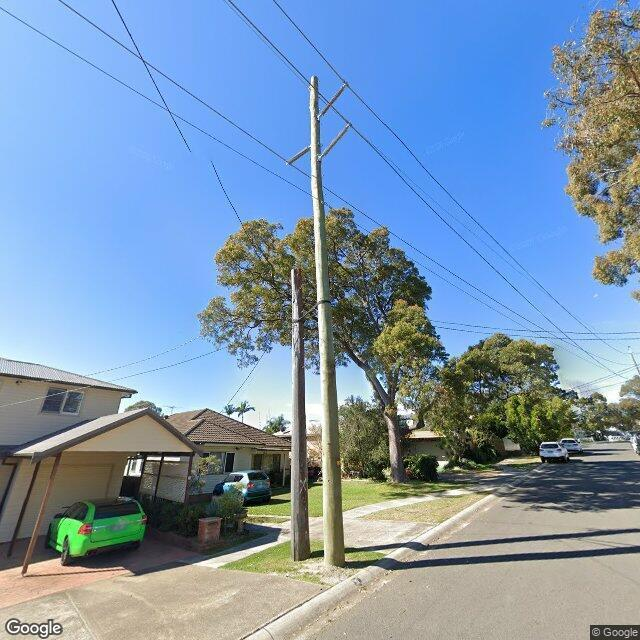HV-transmission: (286, 81, 352, 165)
timber-pole: (310, 74, 344, 566), (292, 269, 310, 561)
